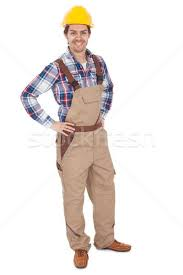Person_wearing_helmet: (56, 2, 102, 38)
